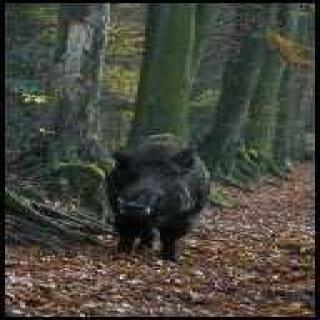Pig: (106, 122, 210, 258)
